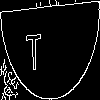T: (25, 24, 43, 71)
